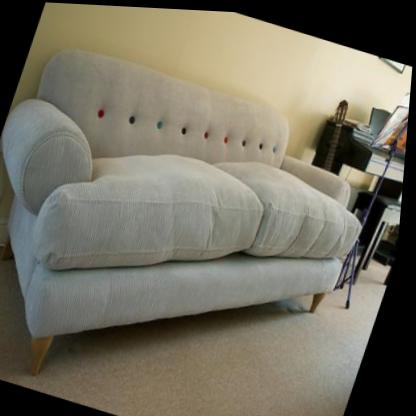Sofa: (0, 24, 400, 416)
